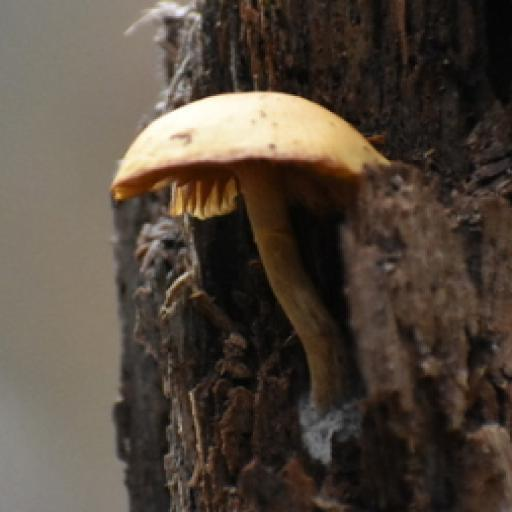mushroom: (113, 72, 388, 367)
